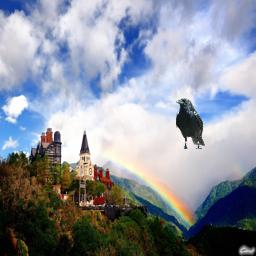Crow: (176, 98, 205, 149)
